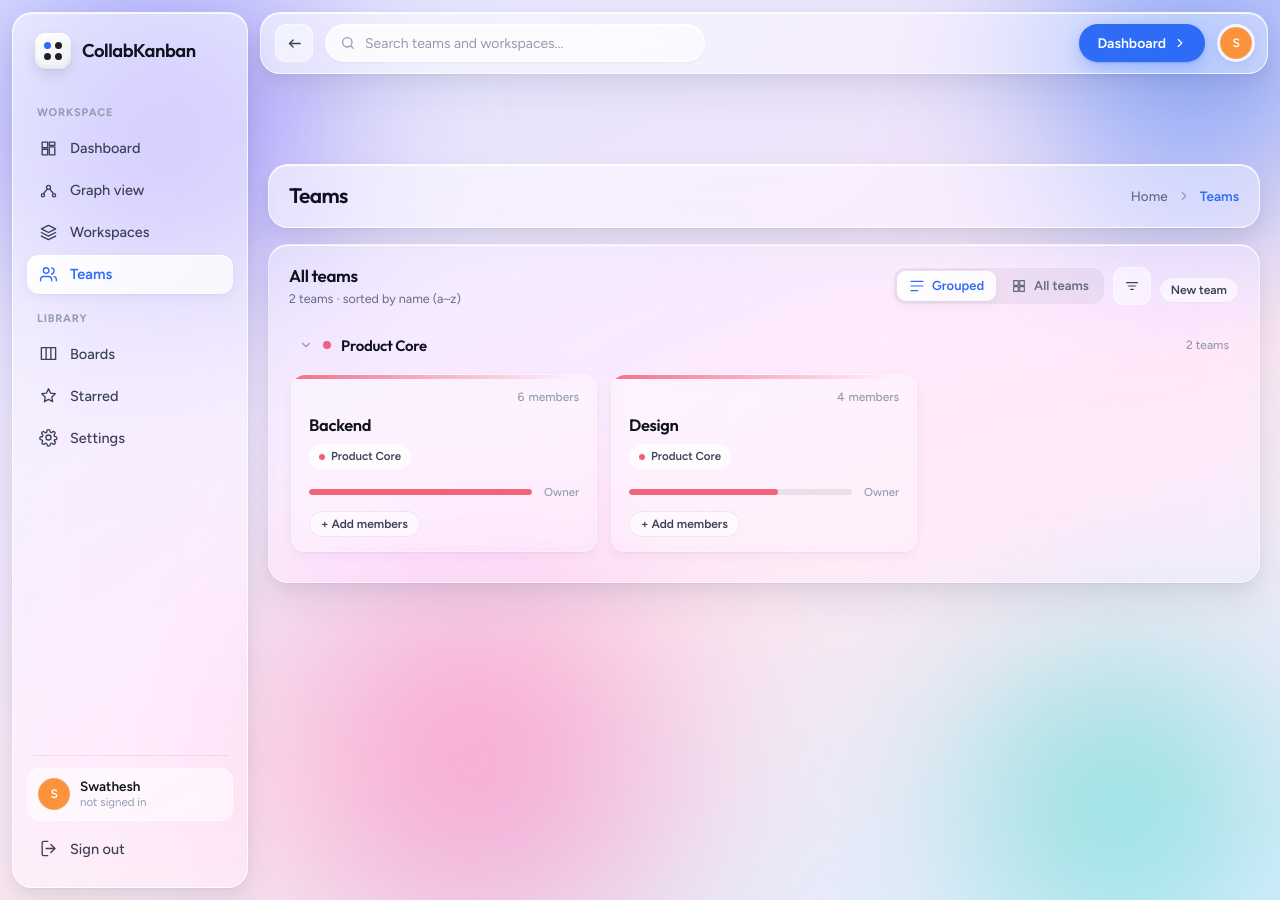
Scenario: TeamsPage › creating teams › creates the team, reloads the teams and confirms
The image size is (1280, 900).
Click the button "New team": (1199, 290) [1159,277,1239,303]
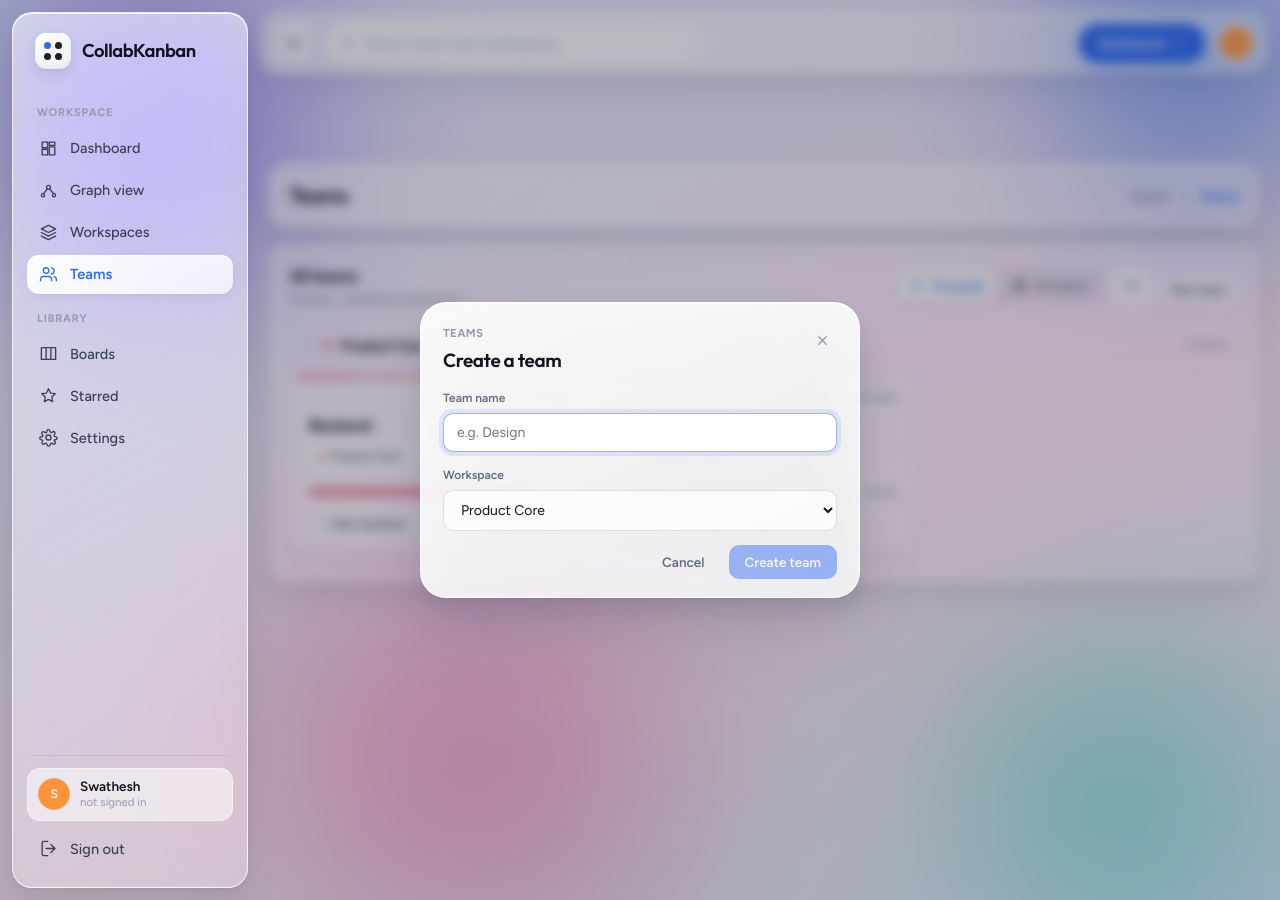
In the field labelled "Team name": (640, 432) [443,413,837,452], type "QA"
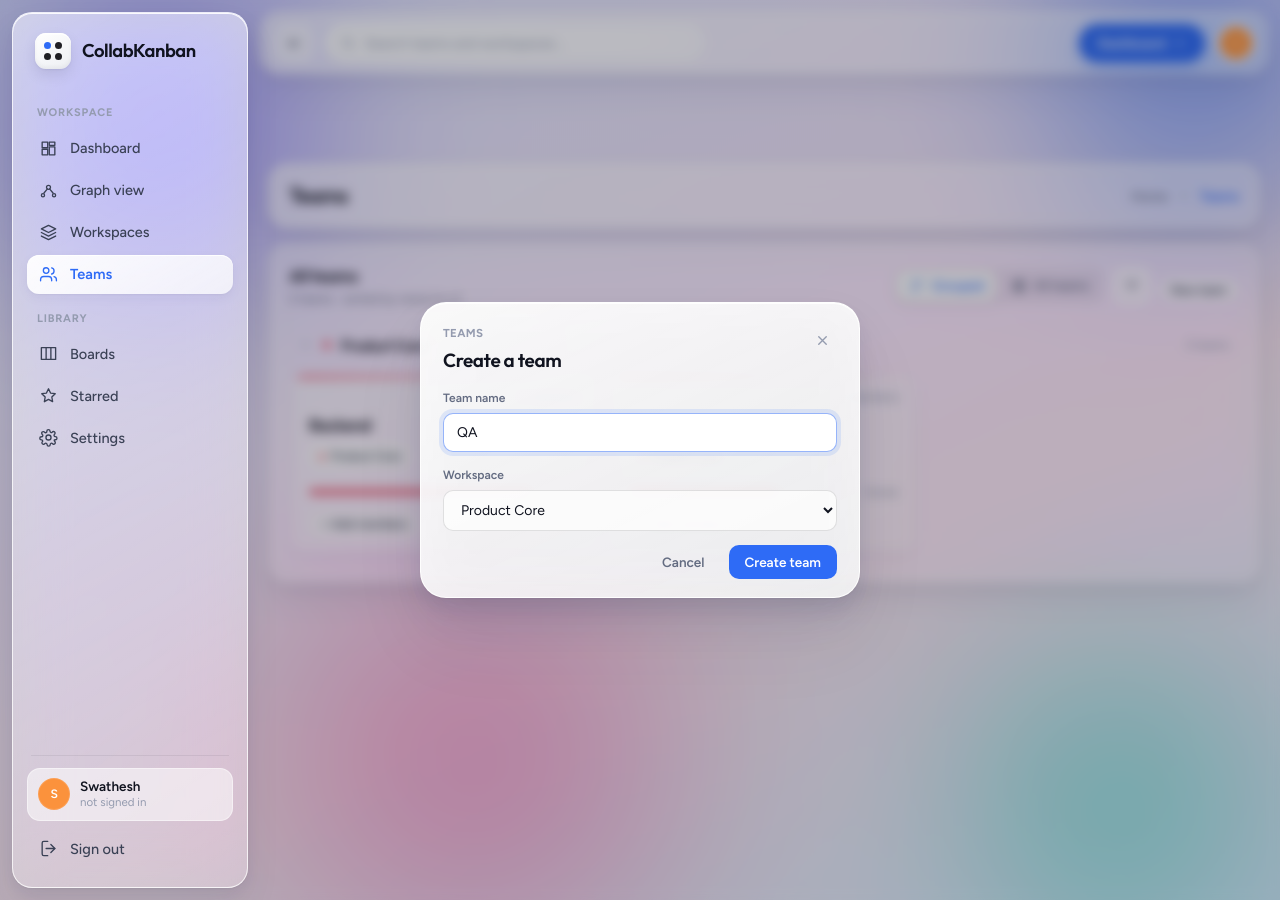
Click the button "Create team": (783, 562) [728,545,837,579]
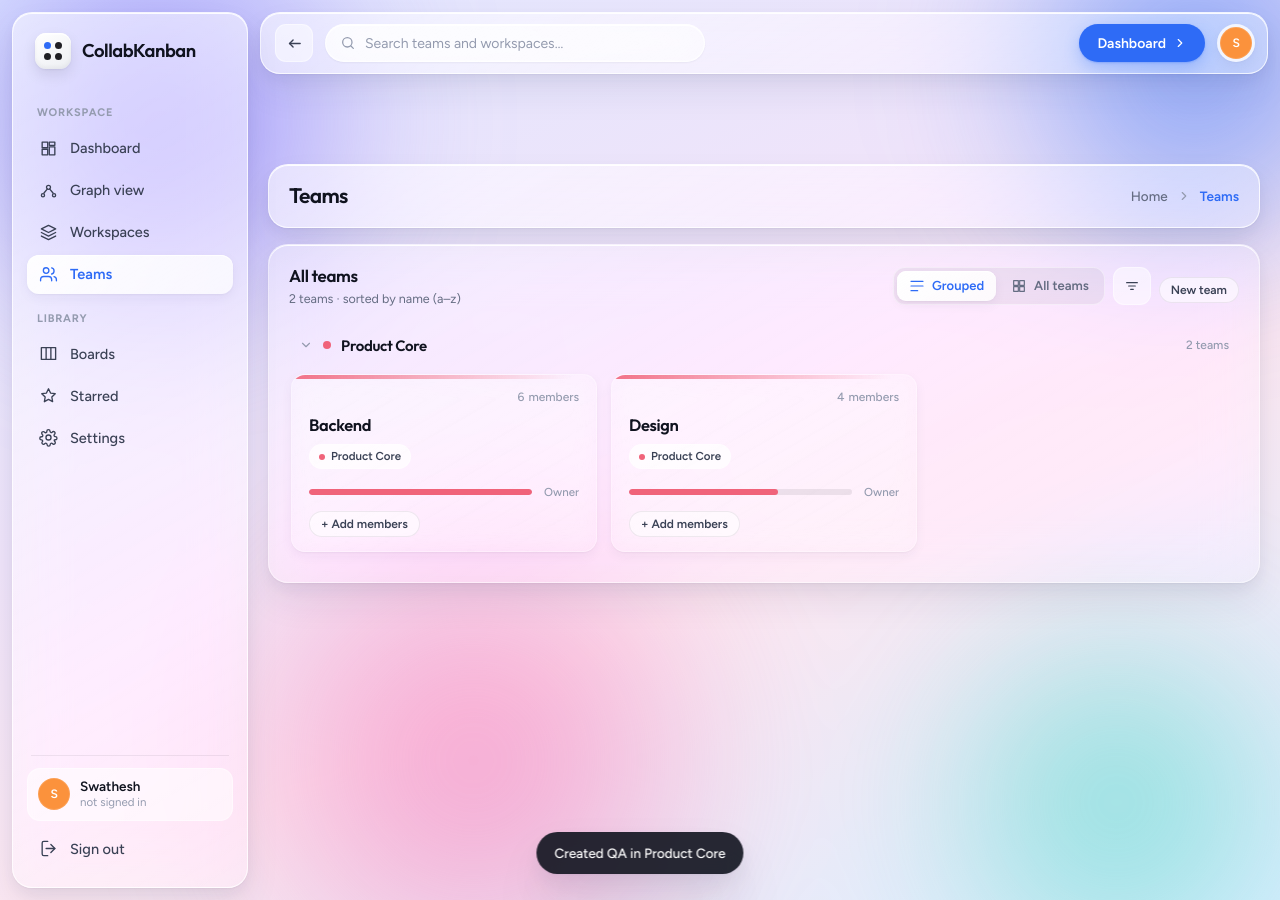
Result: the text "Created QA in Product Core" is shown at [536,832,744,874]
Result: the dialog is gone
